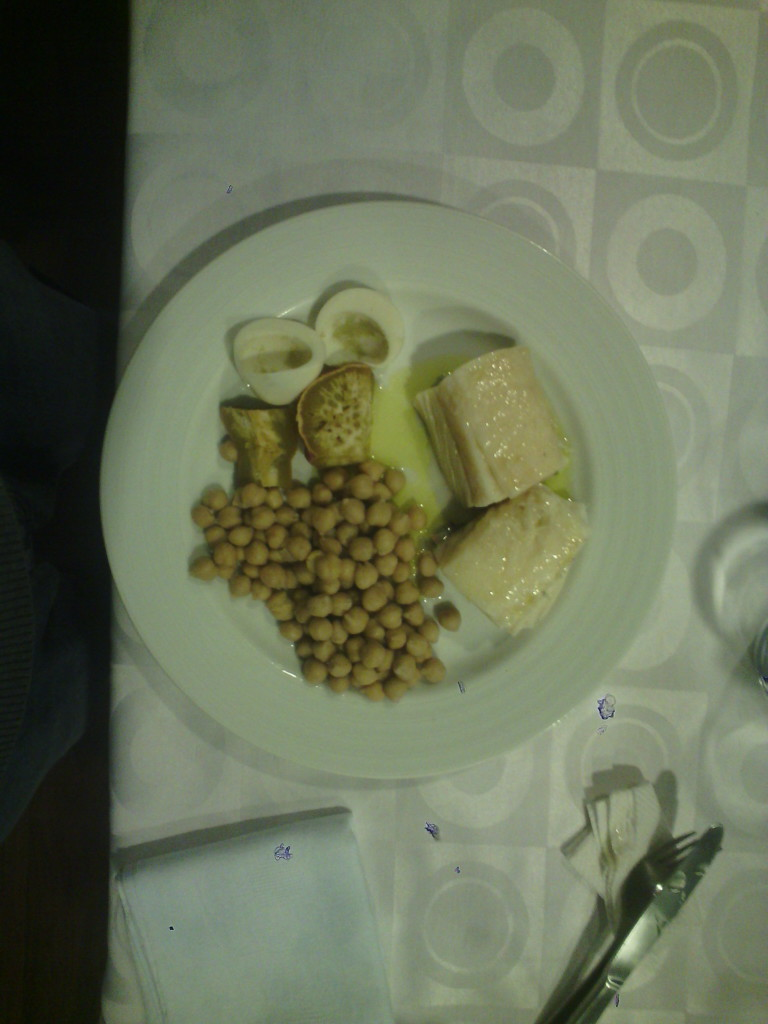81-100: (92, 198, 672, 784)
